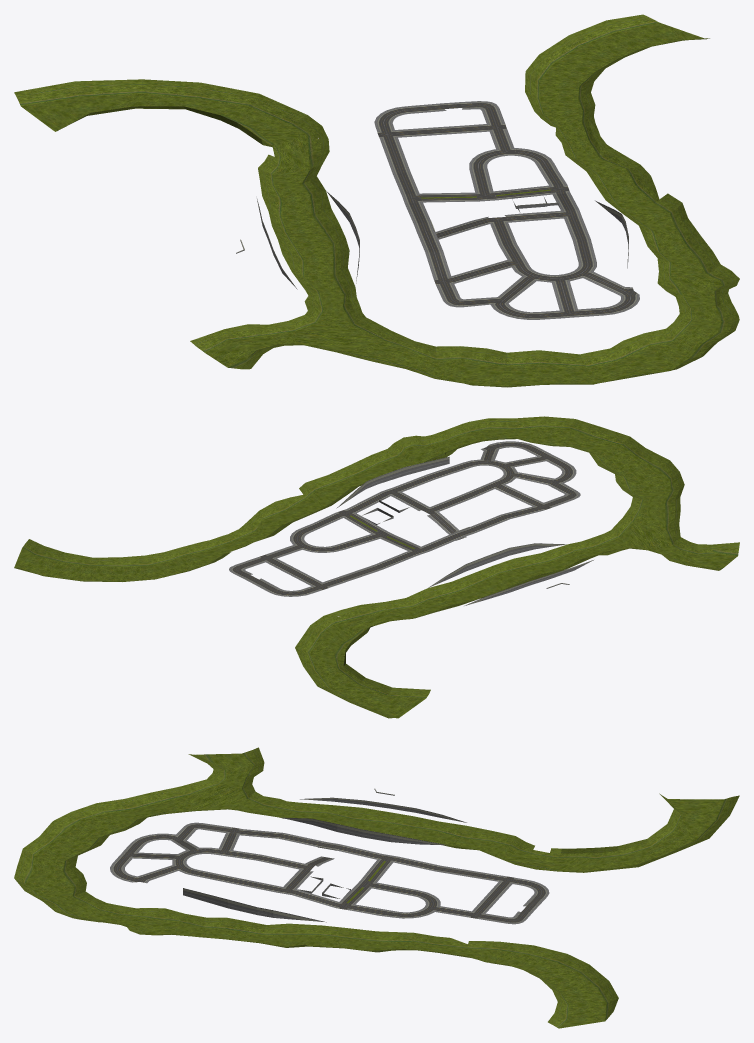
The model's file is roads2.fbx.
3 views of the same model, one above another, from view 1: azimuth 30°, elevation 25°; view 2: azimuth 150°, elevation 25°; view 3: azimuth 270°, elevation 25° (orthographic). The views are drawn at different scales.
Visible parts, largest first — view 1: polySurface1; view 2: polySurface1, polySurface2; view 3: polySurface1, polySurface2.
Part boxes in pixels (box(x1,y1,x2,y2)): polySurface1: box(14, 14, 739, 387); polySurface1: box(14, 416, 739, 718); polySurface2: box(464, 560, 593, 605); polySurface1: box(14, 747, 739, 1028); polySurface2: box(300, 797, 466, 822).
Bounding box in the file's own units: 136346 × 4714 × 151325.
Materials: 1 (1 with a texture image).
